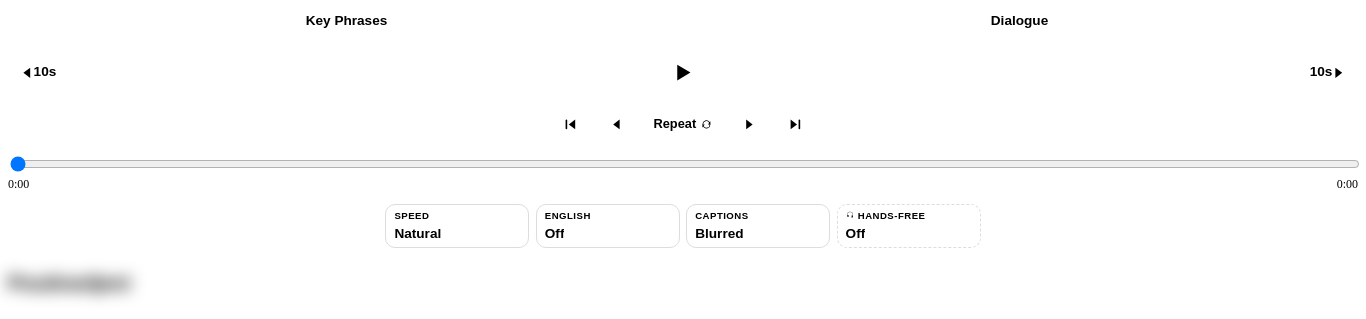
Test: LessonPlayer › enunciation and English controls › enunciation cycles through 4 states on click
The width and height of the screenshot is (1366, 319).
Click the button with class "enunciation-btn". click: click(457, 226)
box: [385,204,529,248]
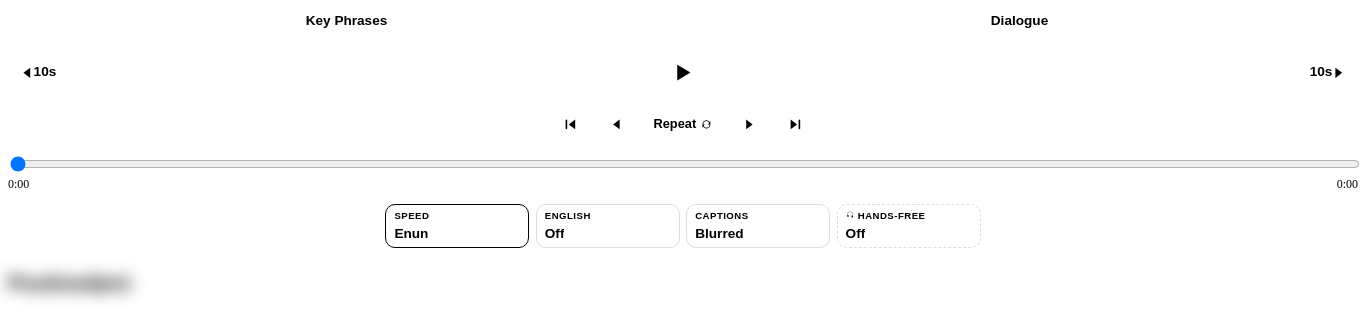
Expected: the text with class "chip-value" reads "Enun", [394,226,428,241]
Click the button with class "enunciation-btn". click: click(457, 226)
box: [385,204,529,248]
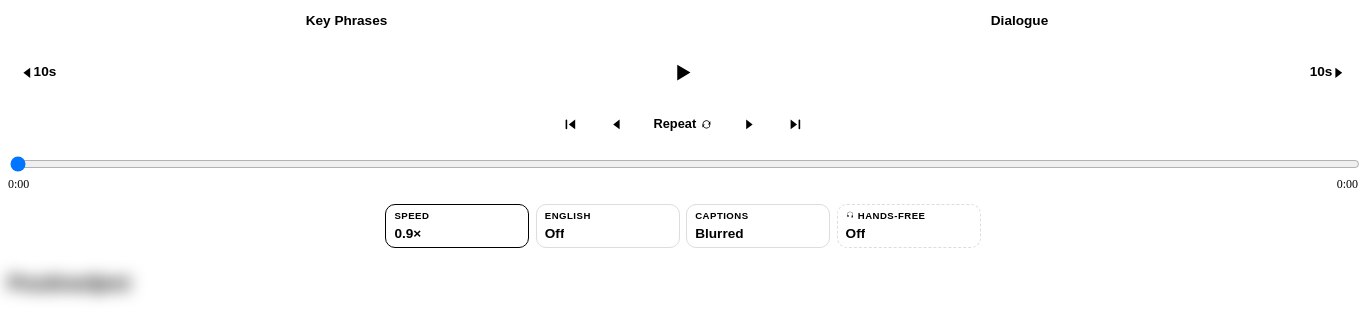
Click the button with class "enunciation-btn". click: click(457, 226)
box: [385,204,529,248]
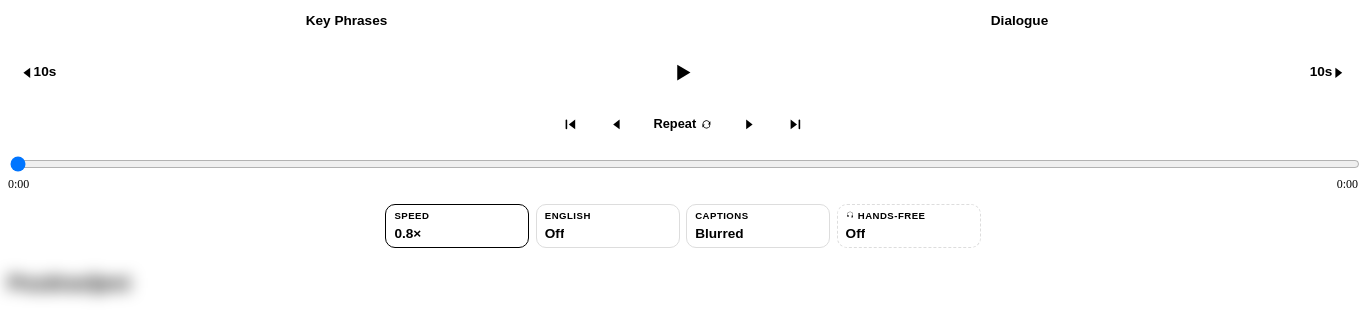
Click the button with class "enunciation-btn". click: click(457, 226)
box: [385,204,529,248]
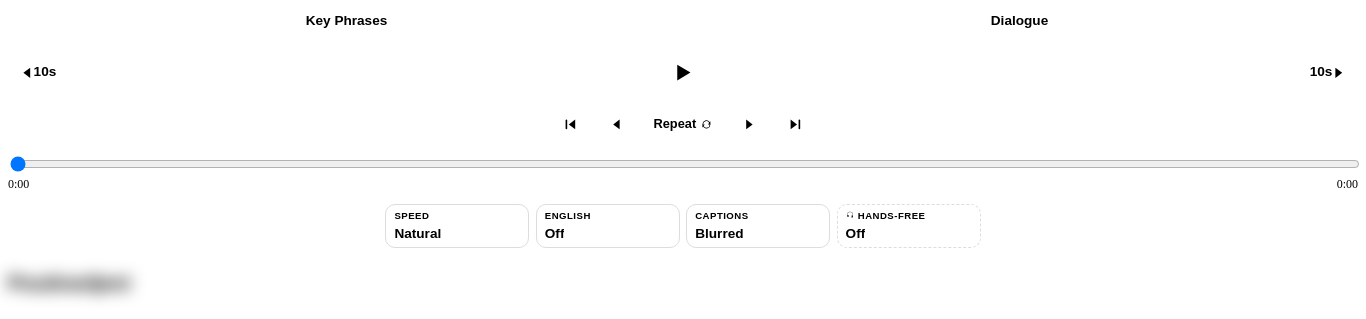
Expected: the text with class "chip-value" reads "Natural", [394,226,441,241]
